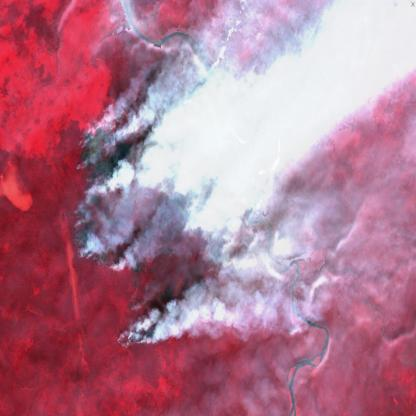fire: (66, 101, 235, 354)
